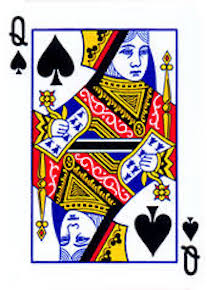QueenOfSpades: (1, 1, 206, 282)
